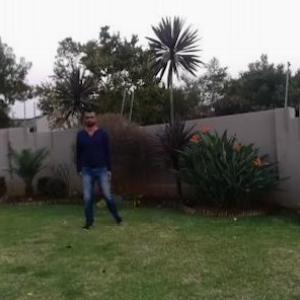follow: (76, 103, 111, 224)
